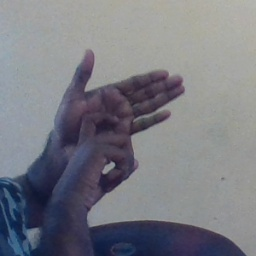R: (45, 46, 189, 187)
